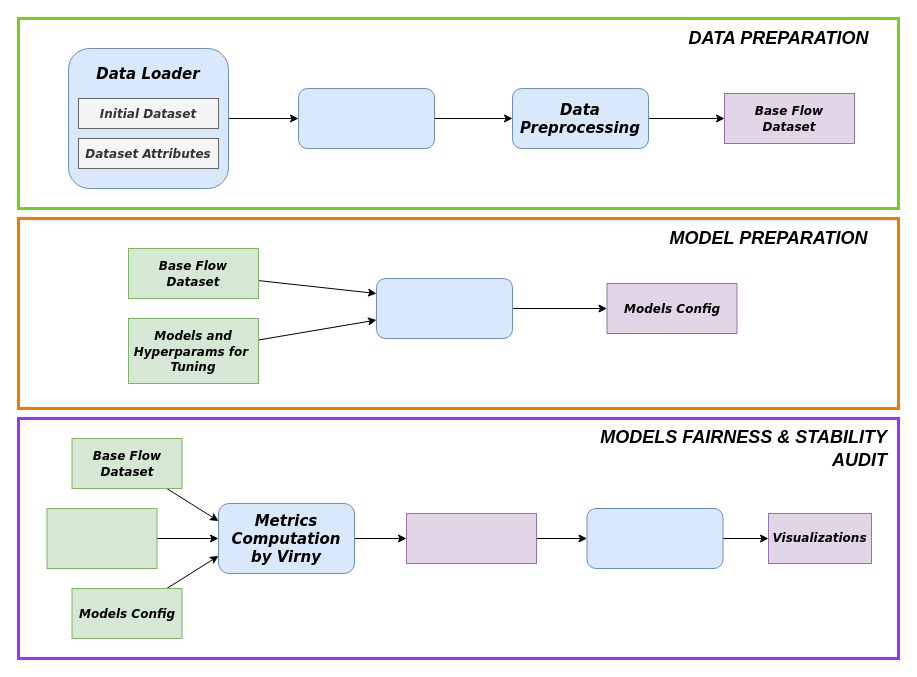
Image size: 917x677. Some labels were removed from this diagram. The box of each missing label's shape, as (x1, y1, x2, y2) in pixels:
Error Injection: (298, 88, 434, 148)
Experiments Visualizer: (586, 508, 723, 568)
Fairness and Variance Metrics: (406, 512, 536, 564)
Metrics Computation Config: (46, 508, 157, 568)
Models Tuning: (376, 278, 512, 338)
